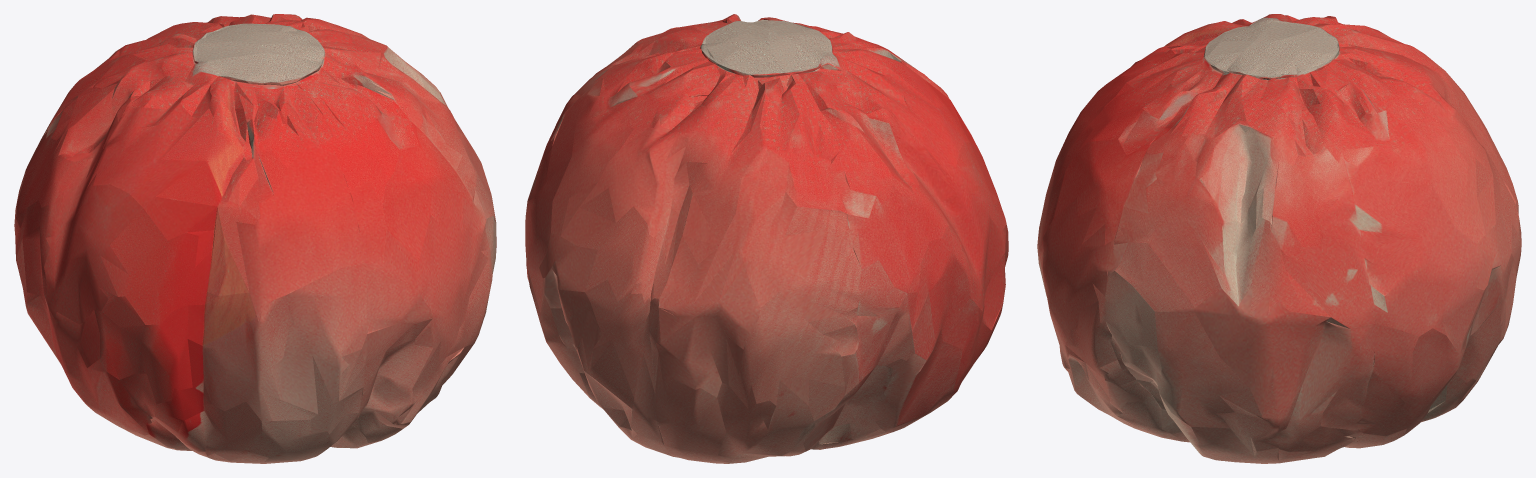
The model's file is pallone.glb.
3 renders of one model, left to right at view 1: azimuth 30°, elevation 25°; view 2: azimuth 150°, elevation 25°; view 3: azimuth 270°, elevation 25°, orthographic.
Bounding box in the file's own units: 1.9 × 1.59 × 1.86.
1 material, 1 textured.
